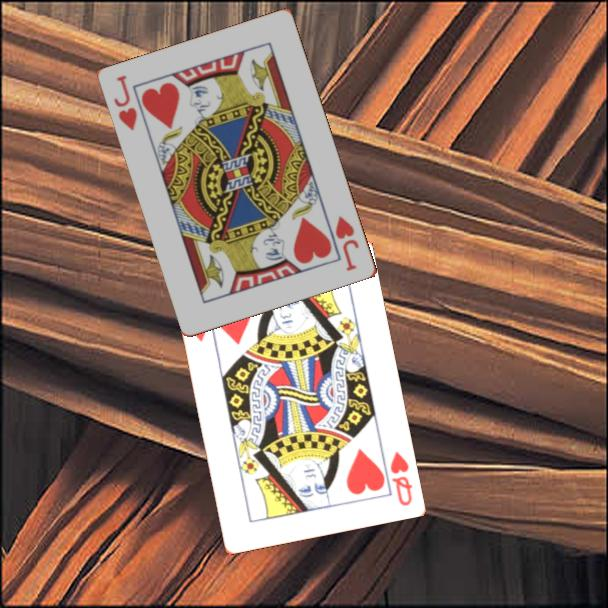h11: (332, 212, 363, 274), (111, 72, 141, 134)
h12: (386, 447, 415, 509)
